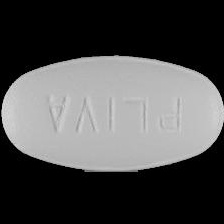63187-007: (0, 0, 224, 224)
